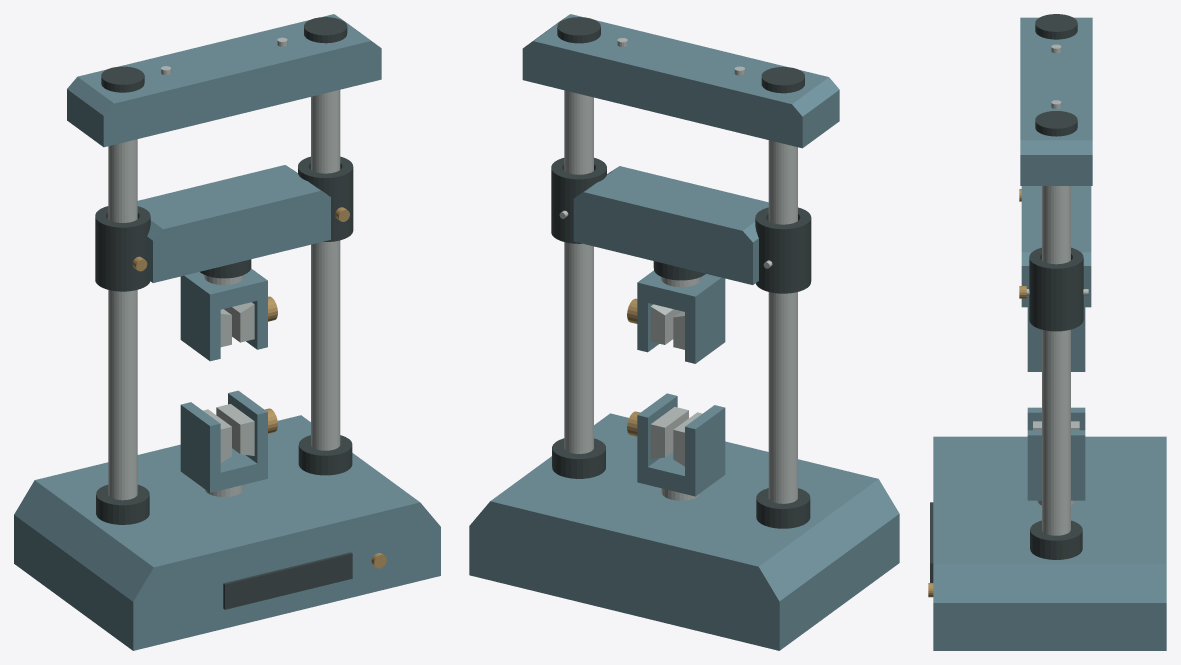
3 renders of one model, left to right at view 1: azimuth 30°, elevation 25°; view 2: azimuth 150°, elevation 25°; view 3: azimuth 270°, elevation 25°, orthographic. The views are drawn at different scales.
Visible parts, largest first — view 1: WholeLowClosedConsoleBase, WholeFixedUpperBridge, WholeMidHeightGripCrosshead, WholeLeftRoundGuideColumn, WholeRightRoundGuideColumn, WholeLowerOpenGripBody, WholeUpperOpenGripBody, WholeLeftThroughBoredCrossheadSleeve, WholeBlankFrontControlPanel, WholeRightThroughBoredCrossheadSleeve, WholeRightColumnRootCollar, WholeLeftColumnRootCollar (+4 smaller); view 2: WholeLowClosedConsoleBase, WholeFixedUpperBridge, WholeMidHeightGripCrosshead, WholeLeftRoundGuideColumn, WholeRightRoundGuideColumn, WholeLowerOpenGripBody, WholeUpperOpenGripBody, WholeLeftThroughBoredCrossheadSleeve, WholeRightThroughBoredCrossheadSleeve, WholeLeftColumnRootCollar, WholeRightColumnRootCollar, WholeLowerBluntJaw1 (+3 smaller); view 3: WholeLowClosedConsoleBase, WholeFixedUpperBridge, WholeRightRoundGuideColumn, WholeRightThroughBoredCrossheadSleeve, WholeMidHeightGripCrosshead, WholeLowerOpenGripBody, WholeRightColumnRootCollar, WholeUpperOpenGripBody, WholeRightTopColumnCap, WholeLeftTopColumnCap.
Boxes of the visible parts, <box> form: WholeLowClosedConsoleBase: <box>14,415,440,650</box>; WholeFixedUpperBridge: <box>67,14,381,147</box>; WholeMidHeightGripCrosshead: <box>137,165,330,282</box>; WholeLeftRoundGuideColumn: <box>108,139,137,500</box>; WholeRightRoundGuideColumn: <box>311,90,340,450</box>; WholeLowerOpenGripBody: <box>180,390,267,492</box>; WholeUpperOpenGripBody: <box>180,268,267,361</box>; WholeLeftThroughBoredCrossheadSleeve: <box>95,206,150,291</box>; WholeBlankFrontControlPanel: <box>223,552,352,609</box>; WholeRightThroughBoredCrossheadSleeve: <box>298,156,353,241</box>; WholeRightColumnRootCollar: <box>298,435,352,475</box>; WholeLeftColumnRootCollar: <box>96,484,149,524</box>; WholeLowClosedConsoleBase: <box>469,413,899,650</box>; WholeFixedUpperBridge: <box>522,14,839,148</box>; WholeMidHeightGripCrosshead: <box>573,166,768,284</box>; WholeLeftRoundGuideColumn: <box>768,140,797,503</box>; WholeRightRoundGuideColumn: <box>564,90,593,453</box>; WholeLowerOpenGripBody: <box>637,393,725,496</box>; WholeUpperOpenGripBody: <box>637,270,725,363</box>; WholeLeftThroughBoredCrossheadSleeve: <box>755,207,811,293</box>; WholeRightThroughBoredCrossheadSleeve: <box>551,157,606,243</box>; WholeLeftColumnRootCollar: <box>756,488,810,528</box>; WholeRightColumnRootCollar: <box>552,438,605,478</box>; WholeLowerBluntJaw1: <box>650,407,688,459</box>; WholeLowClosedConsoleBase: <box>933,436,1166,650</box>; WholeFixedUpperBridge: <box>1020,17,1092,185</box>; WholeRightRoundGuideColumn: <box>1042,186,1070,535</box>; WholeRightThroughBoredCrossheadSleeve: <box>1029,247,1083,331</box>; WholeMidHeightGripCrosshead: <box>1021,186,1091,307</box>; WholeLowerOpenGripBody: <box>1027,407,1085,500</box>; WholeRightColumnRootCollar: <box>1030,520,1082,559</box>; WholeUpperOpenGripBody: <box>1027,307,1085,371</box>; WholeRightTopColumnCap: <box>1035,111,1077,136</box>; WholeLeftTopColumnCap: <box>1035,14,1077,39</box>.
Size of the model in its own units: 0.82 by 1.32 by 0.562.
